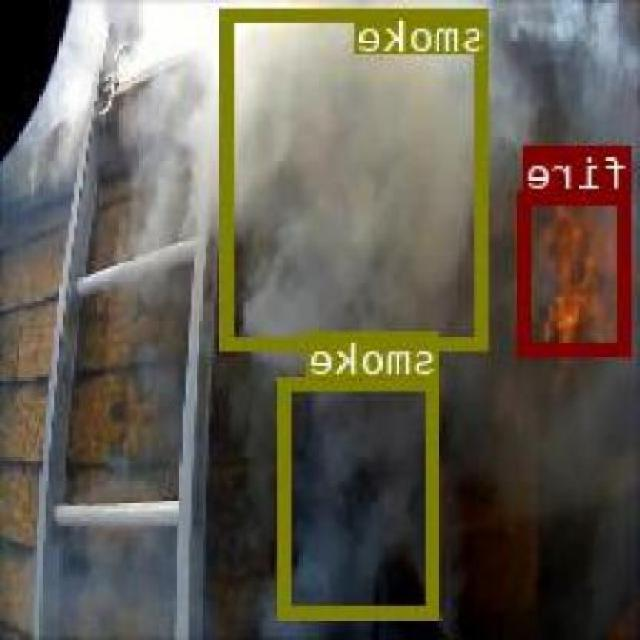Fire: (522, 190, 633, 353)
Smoke: (224, 8, 490, 346), (282, 376, 441, 616), (462, 379, 634, 520), (118, 13, 211, 260), (496, 0, 636, 136), (58, 532, 178, 627)
